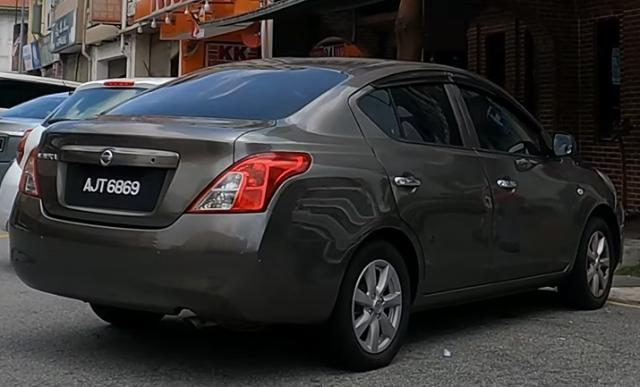License_Plate: (59, 160, 169, 215)
car: (2, 56, 627, 372)
